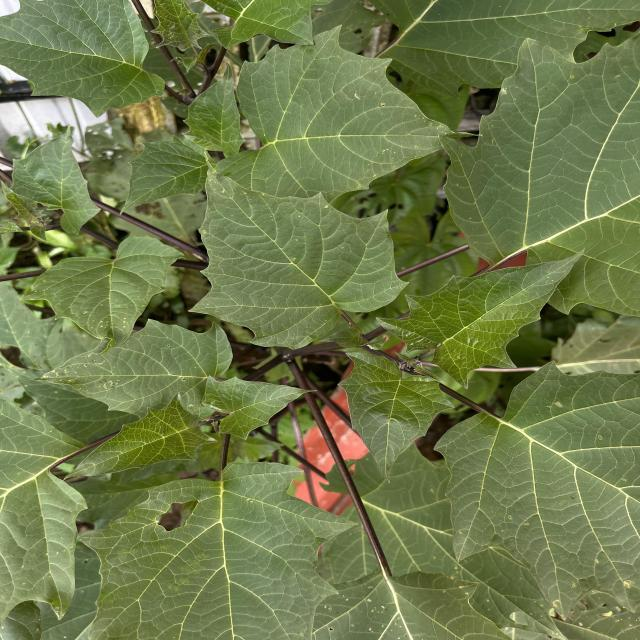Datura metal linn: (185, 146, 412, 352), (372, 244, 588, 392), (19, 232, 188, 356), (336, 348, 458, 486), (59, 388, 220, 482), (200, 373, 320, 442), (118, 134, 206, 217), (178, 60, 246, 157)
